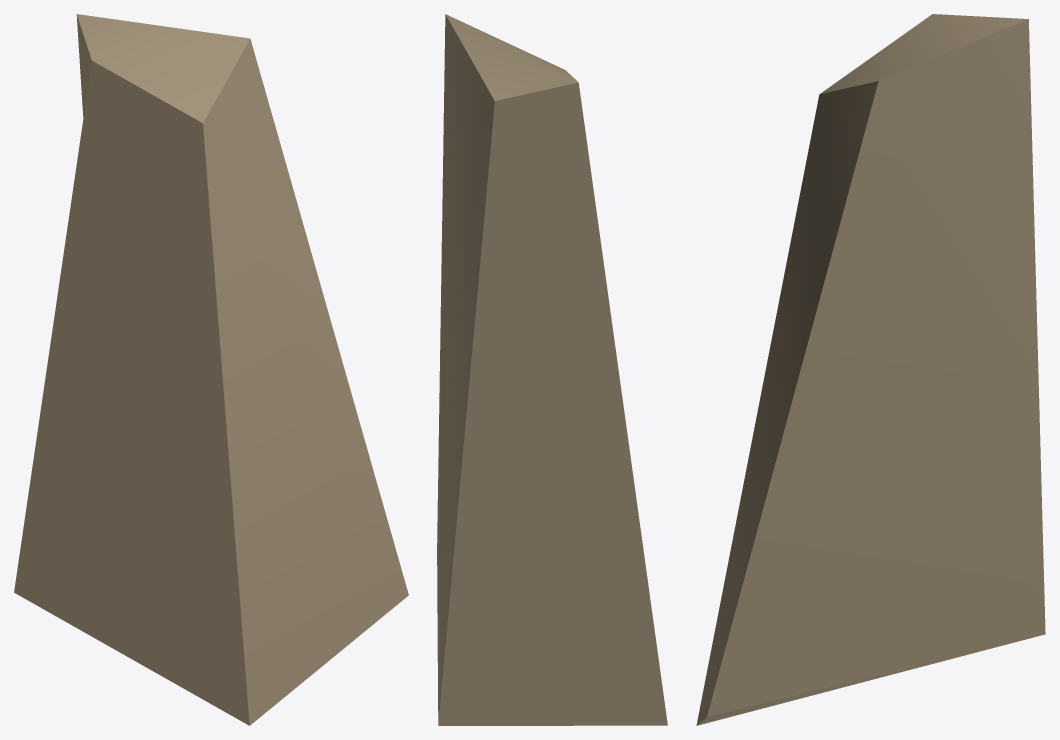
Rendered from rock_tall_lrg_p_05.fbx.
3 views of the same model, side by side, from view 1: azimuth 30°, elevation 25°; view 2: azimuth 150°, elevation 25°; view 3: azimuth 270°, elevation 25° (orthographic). The views are drawn at different scales.
Parts seen in each view (by area): view 1: rock_tall_lrg_p_05; view 2: rock_tall_lrg_p_05; view 3: rock_tall_lrg_p_05.
Part boxes in pixels (box(x1,y1,x2,y2)): rock_tall_lrg_p_05: box(14, 14, 408, 725); rock_tall_lrg_p_05: box(437, 14, 667, 725); rock_tall_lrg_p_05: box(696, 14, 1045, 725).
Size of the model in its own units: 19.51 by 38.82 by 17.74.
